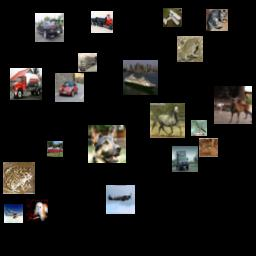airplane: (106, 185, 135, 214), (163, 8, 182, 27), (4, 204, 23, 223)
automobile: (55, 73, 84, 102), (35, 13, 64, 42), (47, 141, 63, 157)
bird: (199, 138, 218, 157), (191, 120, 207, 136)
cat: (206, 9, 228, 31)
deer: (214, 86, 252, 124)
dog: (88, 125, 126, 163), (26, 199, 48, 221)
frog: (3, 162, 35, 194), (177, 36, 203, 62)
ship: (123, 60, 158, 95)
truck: (10, 68, 42, 100), (172, 146, 198, 172), (91, 11, 113, 33), (78, 53, 97, 72)
